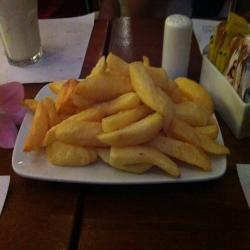fries: (31, 57, 224, 186)
